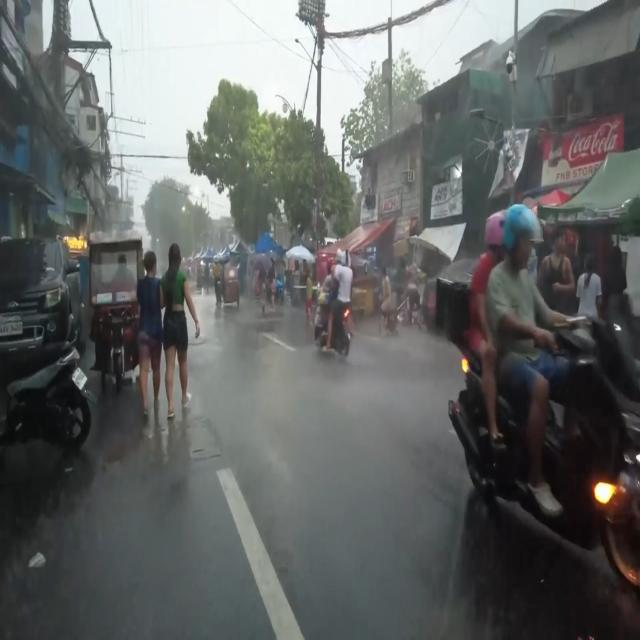half: (504, 204, 544, 273), (484, 209, 511, 253), (325, 257, 335, 274)
not_wearing: (342, 250, 351, 268), (334, 248, 343, 264)
